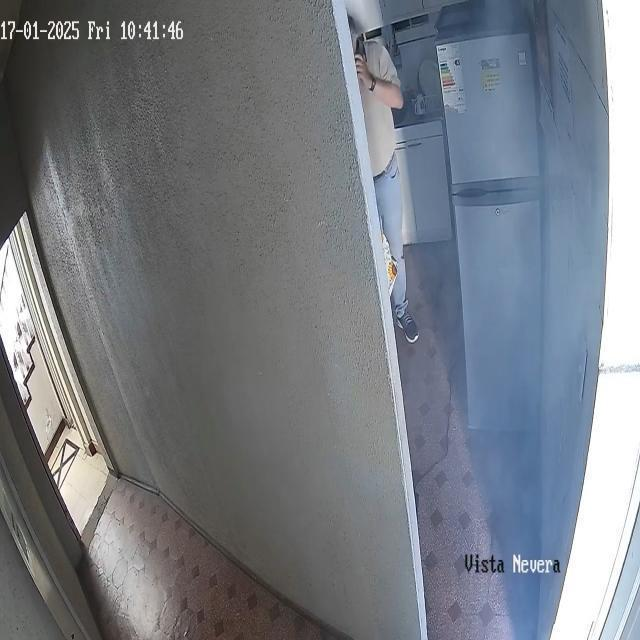fire: (406, 0, 608, 620)
